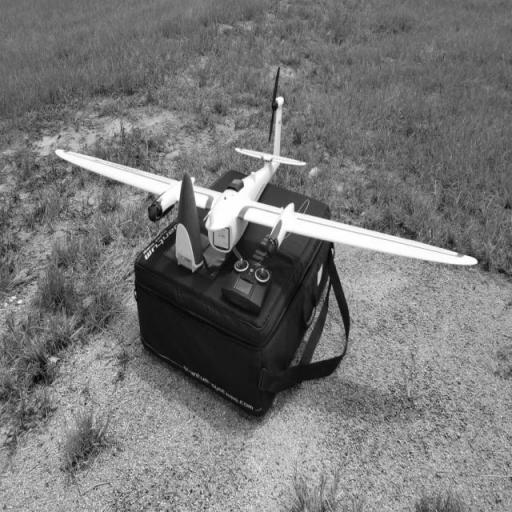uav: (37, 62, 491, 308)
